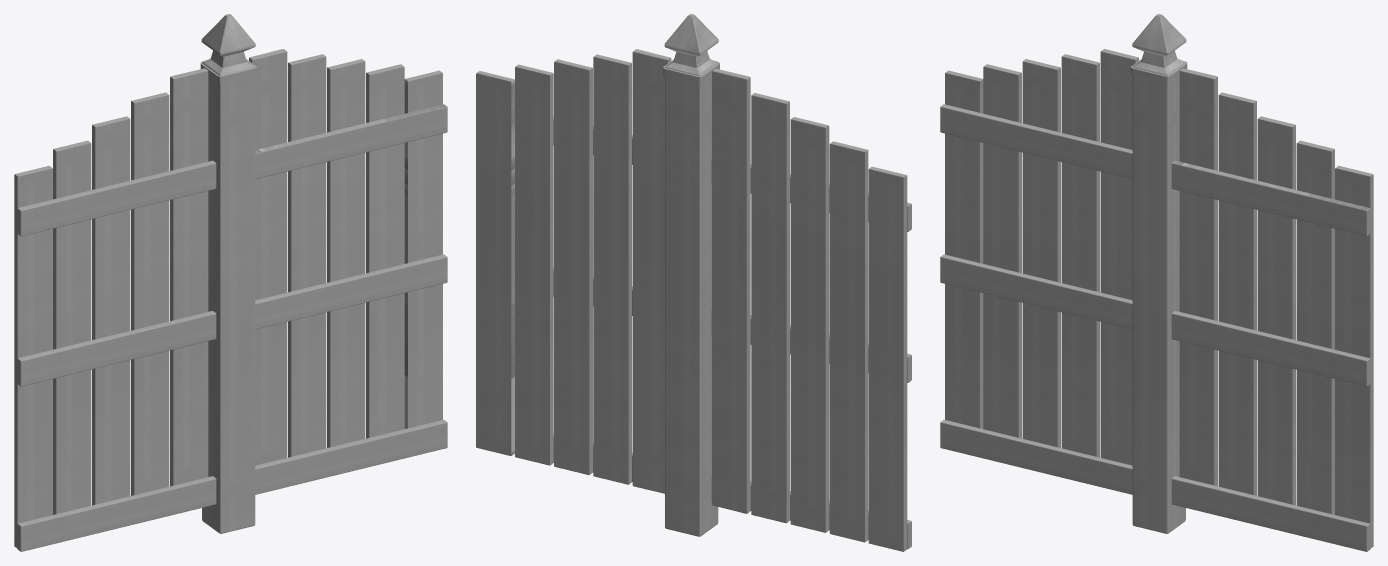
The model's file is fenceA.fbx.
3 views of the same model, side by side, from view 1: azimuth 30°, elevation 25°; view 2: azimuth 150°, elevation 25°; view 3: azimuth 330°, elevation 25° (orthographic).
Parts seen in each view (by area): view 1: innerRingFenceMesh5; view 2: innerRingFenceMesh5; view 3: innerRingFenceMesh5.
Boxes of the visible parts, x1,y1,x2,y2 form: innerRingFenceMesh5: (14,14,447,551); innerRingFenceMesh5: (476,14,911,551); innerRingFenceMesh5: (940,14,1373,551).
Bounding box in the file's own units: 802 × 913 × 66.52.
